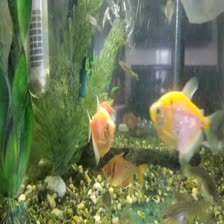Plano: (142, 72, 223, 161), (80, 93, 123, 156), (96, 154, 150, 189)
